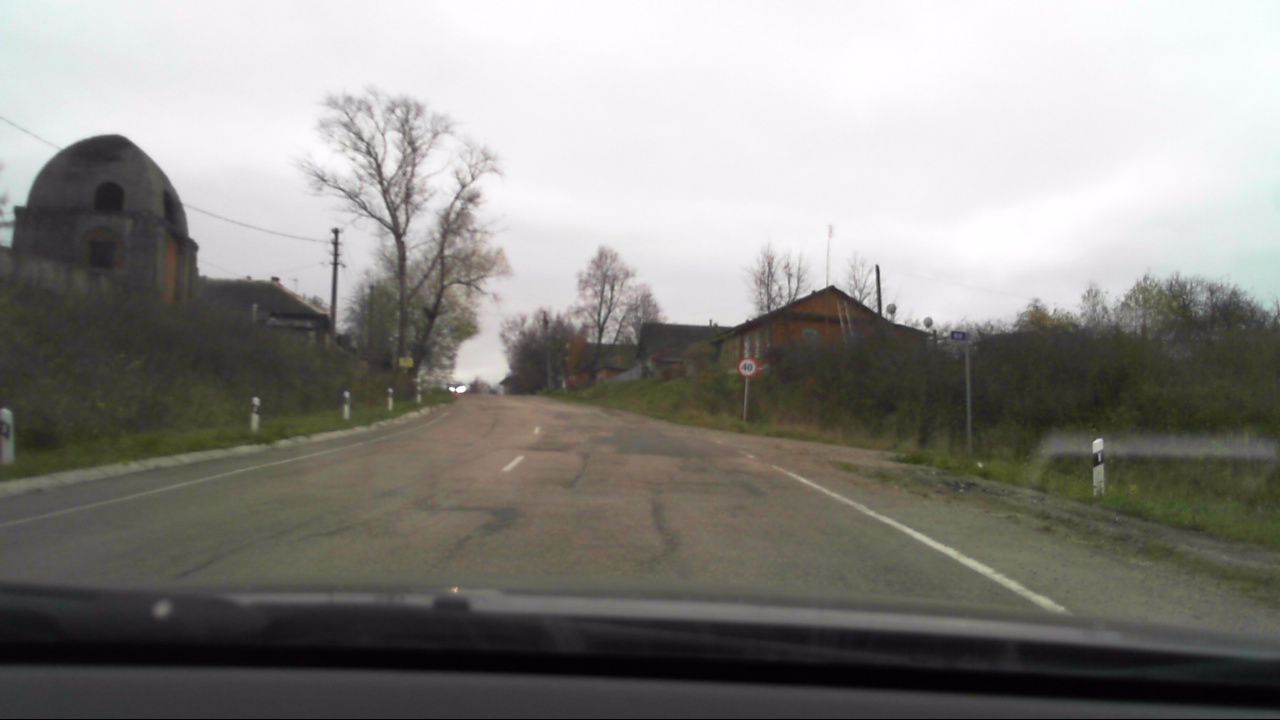speed_warning_40: (738, 359, 755, 377)
